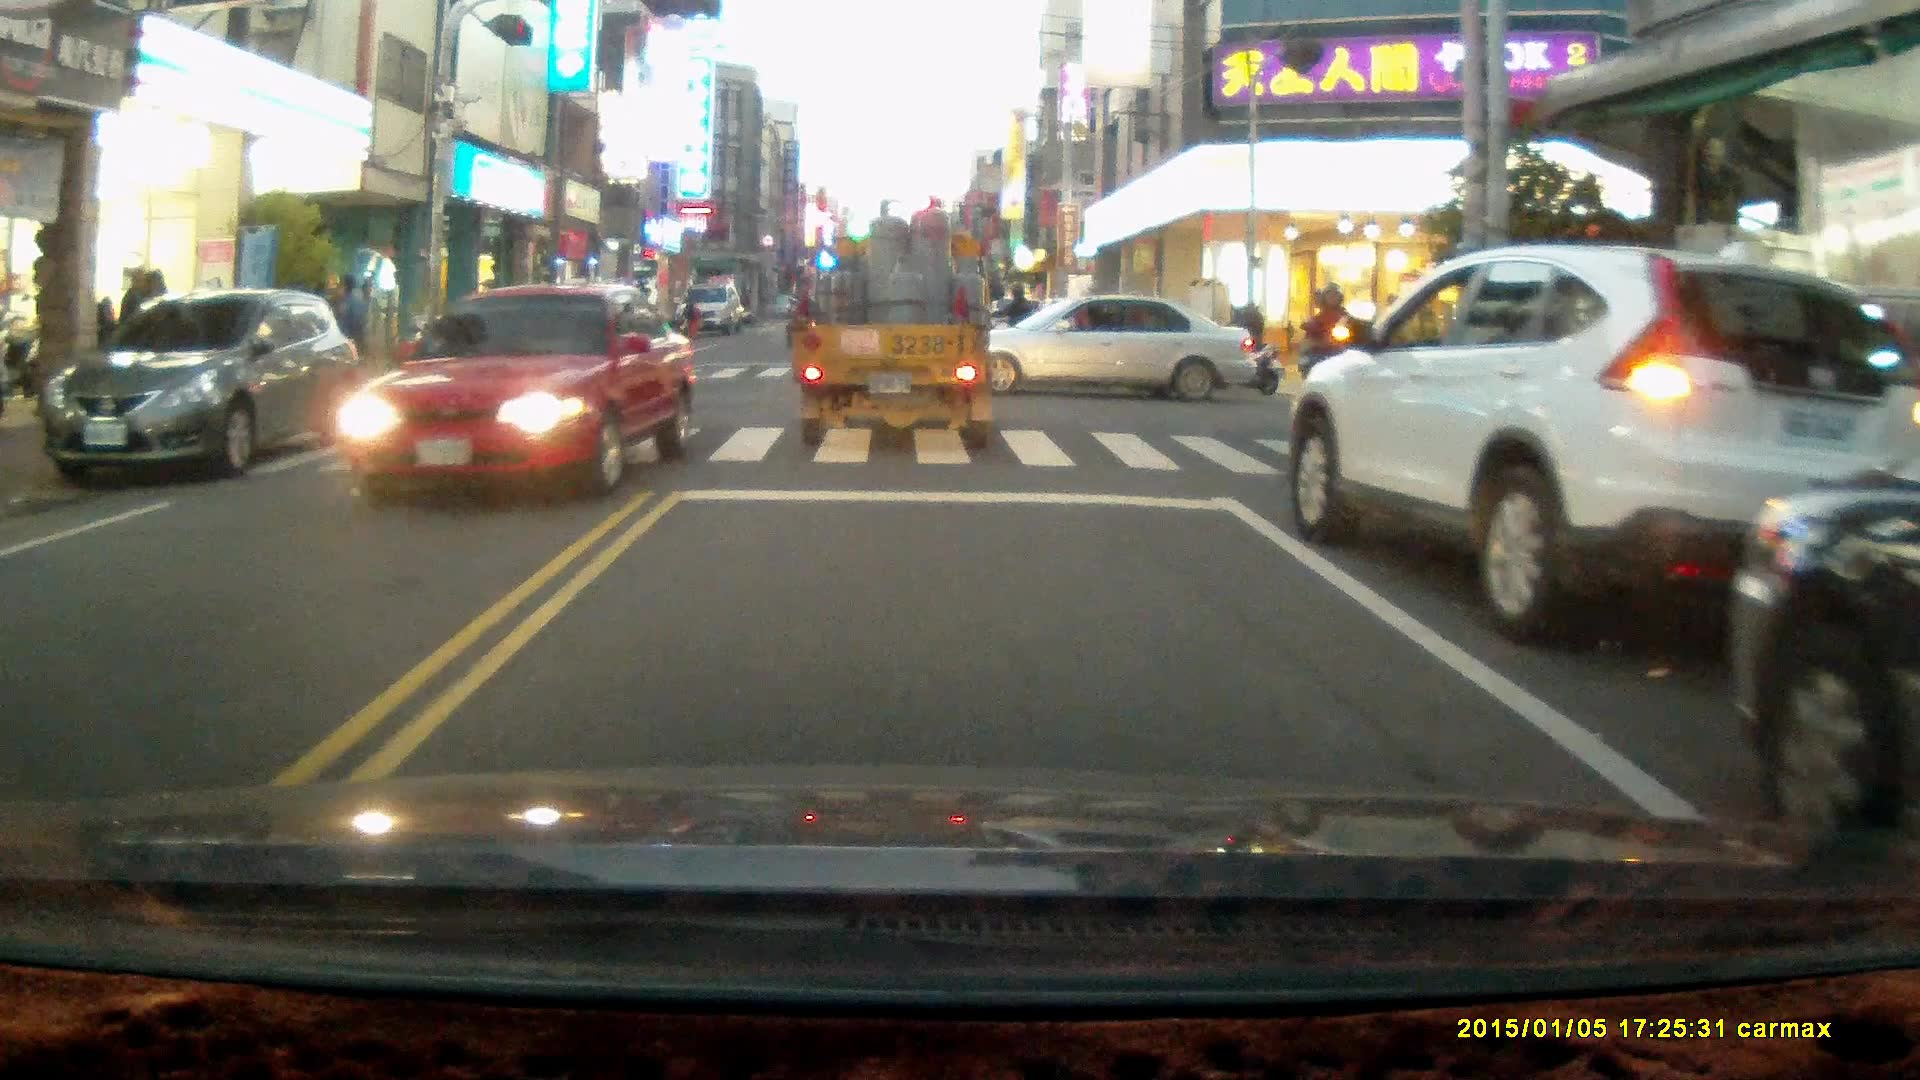pedestrian: (323, 271, 369, 403)
rider: (1291, 280, 1377, 449), (1191, 289, 1281, 394)
vehicle: (1284, 247, 1920, 653), (1724, 467, 1920, 876), (345, 281, 707, 498), (35, 286, 367, 487), (793, 192, 999, 458), (936, 293, 1256, 407), (677, 284, 743, 336)
